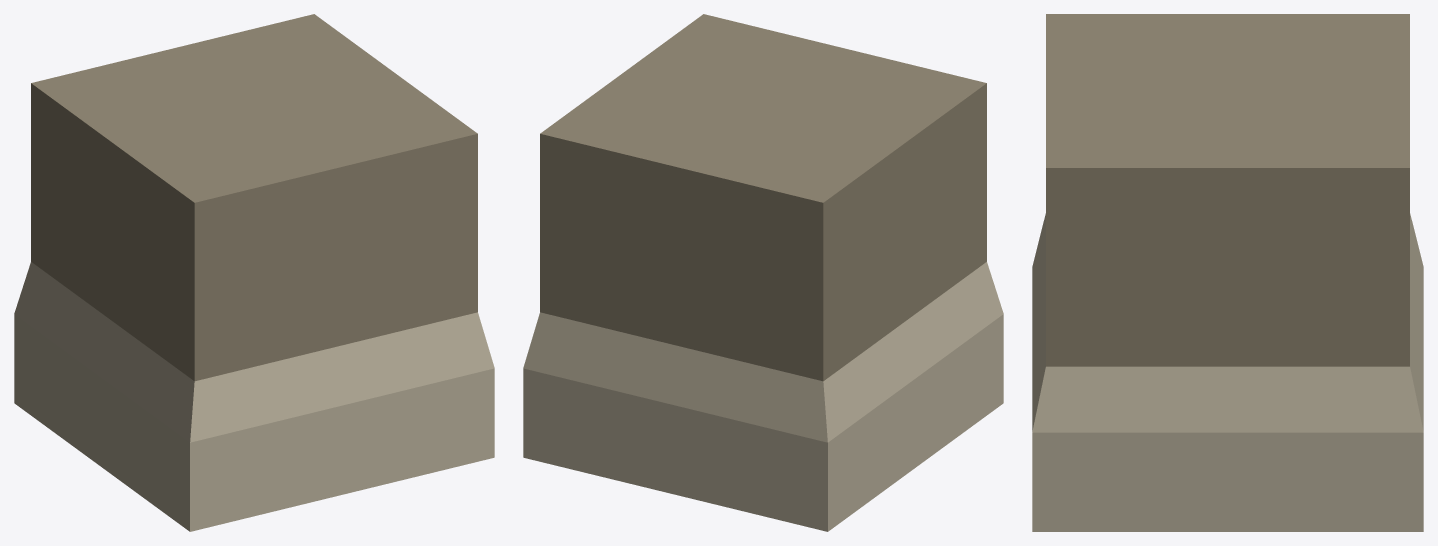
Rendered from towerSquareBase.glb.
3 renders of one model, left to right at view 1: azimuth 30°, elevation 25°; view 2: azimuth 150°, elevation 25°; view 3: azimuth 270°, elevation 25°, orthographic. The views are drawn at different scales.
Visible parts, largest first — view 1: mesh_1, mesh_0; view 2: mesh_1, mesh_0; view 3: mesh_1, mesh_0.
Part boxes in pixels (x1,y1,x2,y2): mesh_1: (31,14,477,381); mesh_0: (14,262,494,531); mesh_1: (540,14,986,381); mesh_0: (523,262,1003,531); mesh_1: (1046,14,1409,366); mesh_0: (1032,213,1423,531).
Size of the model in its own units: 10 by 10.1 by 10.
